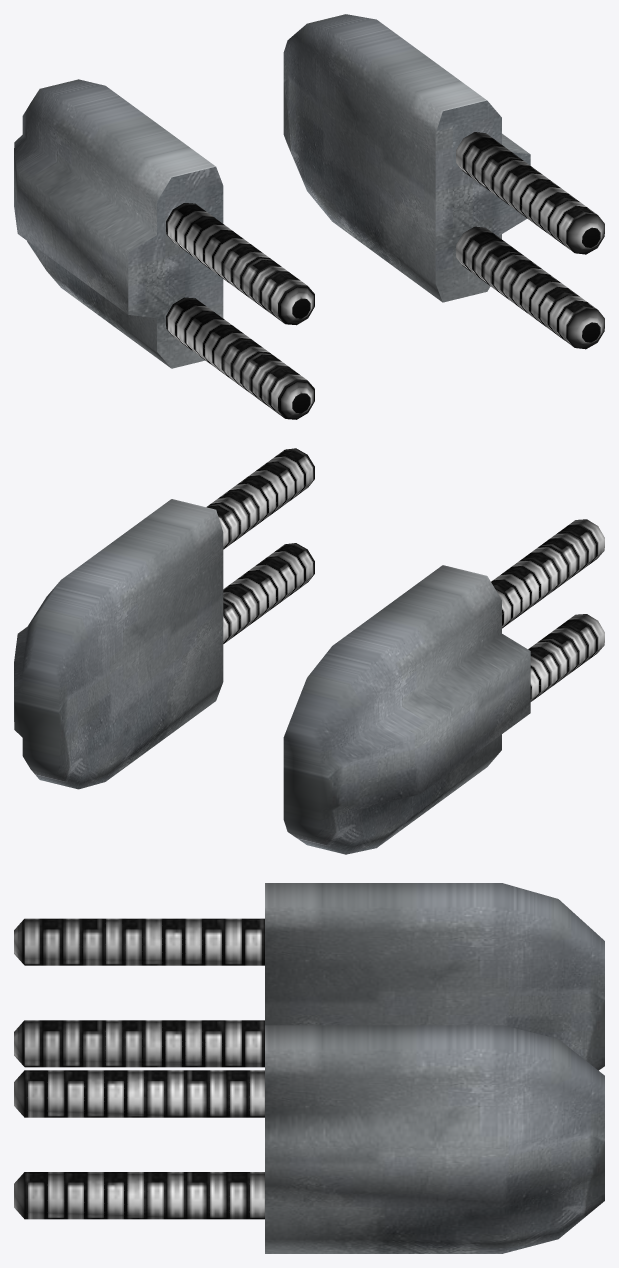
The model's file is AAA4Guns.fbx.
The picture shows the model from 3 angles, top to bottom: view 1: azimuth 30°, elevation 25°; view 2: azimuth 150°, elevation 25°; view 3: azimuth 270°, elevation 25°; orthographic projection. The views are drawn at different scales.
Visible parts, largest first — view 1: AAA4Guns; view 2: AAA4Guns; view 3: AAA4Guns.
Part boxes in pixels (box(x1,y1,x2,y2)): AAA4Guns: box(14, 14, 604, 419); AAA4Guns: box(14, 448, 604, 854); AAA4Guns: box(14, 883, 604, 1253).
Size of the model in its own units: 81.76 by 37.14 by 96.84.
